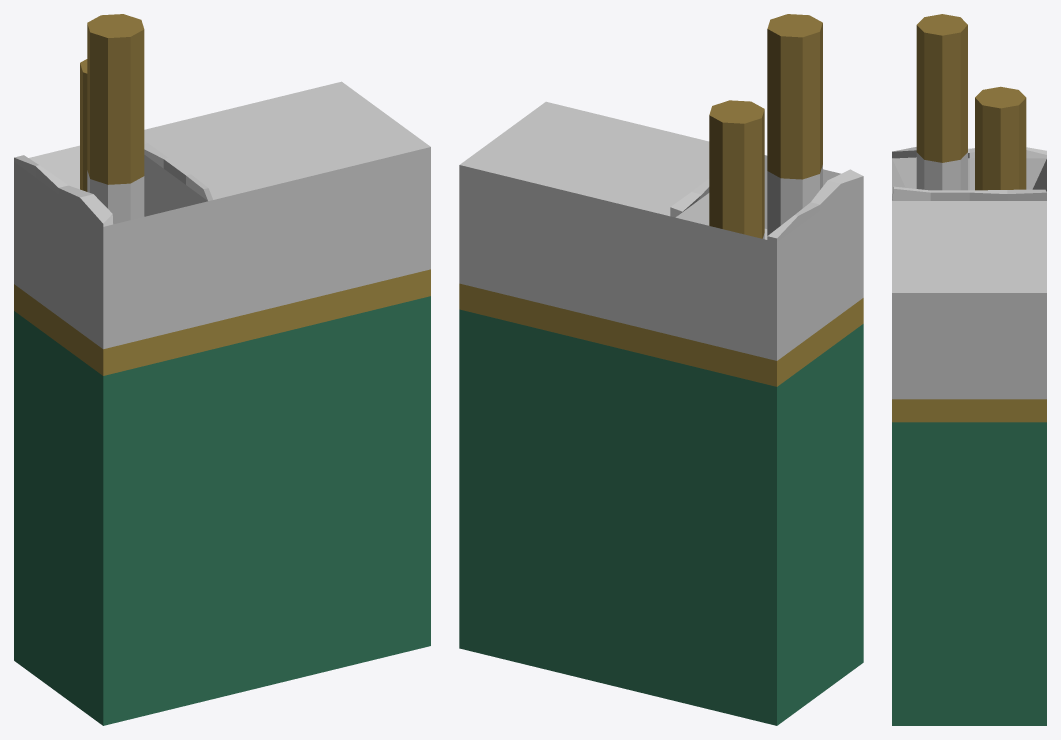
File: Cigs.fbx
3 views of the same model, side by side, from view 1: azimuth 30°, elevation 25°; view 2: azimuth 150°, elevation 25°; view 3: azimuth 270°, elevation 25° (orthographic). The views are drawn at different scales.
Visible parts, largest first — view 1: Cube; view 2: Cube; view 3: Cube.
Boxes of the visible parts, box(x1,y1,x2,y2) form: Cube: box(14, 14, 430, 725); Cube: box(459, 14, 863, 725); Cube: box(892, 14, 1046, 725).
Size of the model in its own units: 200 by 390 by 94.29.
